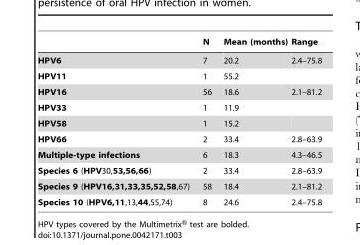table: (37, 37, 321, 206)
table column: (37, 37, 195, 206), (216, 37, 288, 206), (288, 37, 321, 206), (195, 37, 216, 206)
table column header: (37, 37, 321, 50)
table row: (37, 50, 321, 68), (37, 83, 321, 99), (37, 99, 321, 115), (37, 115, 321, 131), (37, 146, 321, 162), (37, 162, 321, 178), (37, 178, 321, 194), (37, 68, 321, 83), (37, 131, 321, 146), (37, 37, 321, 50), (37, 194, 321, 206)
